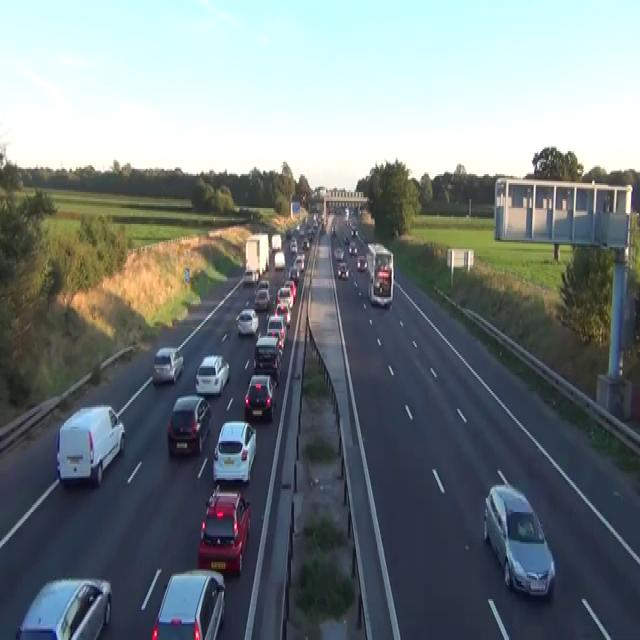Car: (483, 482, 555, 599), (15, 576, 112, 638), (55, 404, 125, 486), (151, 567, 225, 638), (197, 487, 251, 574), (212, 420, 256, 486), (166, 393, 211, 457), (244, 374, 276, 422), (194, 354, 230, 396), (253, 334, 282, 384), (152, 347, 184, 384), (266, 313, 286, 348), (235, 308, 258, 336), (266, 329, 284, 359), (274, 302, 291, 327), (276, 284, 293, 308), (254, 288, 270, 311), (242, 266, 258, 284), (283, 279, 296, 301), (337, 261, 349, 279), (288, 265, 299, 284), (356, 254, 367, 272), (274, 250, 285, 268), (293, 254, 304, 272), (333, 246, 344, 260), (348, 240, 357, 256), (305, 226, 314, 240), (258, 279, 269, 290), (289, 238, 297, 252), (312, 214, 318, 228), (244, 265, 252, 275), (302, 238, 309, 249), (298, 224, 305, 235), (285, 228, 291, 238), (350, 228, 357, 236), (331, 222, 335, 236), (343, 234, 349, 243), (321, 224, 326, 233), (295, 224, 299, 231)
Truck: (366, 242, 394, 306), (244, 233, 269, 275), (271, 233, 281, 251), (290, 201, 300, 219)
